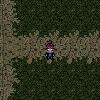Victim: (43, 39, 56, 62)
